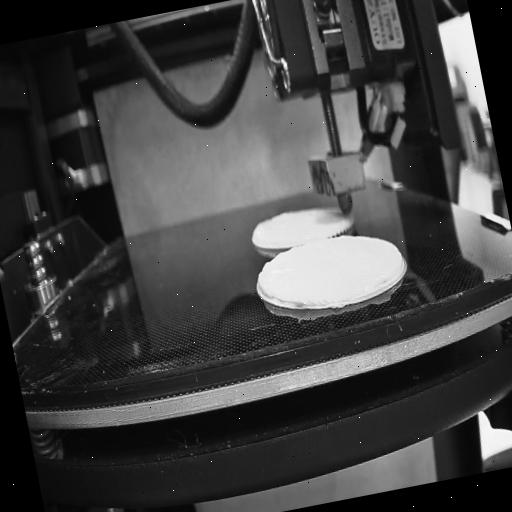over_extrusion: (255, 273, 276, 307)
